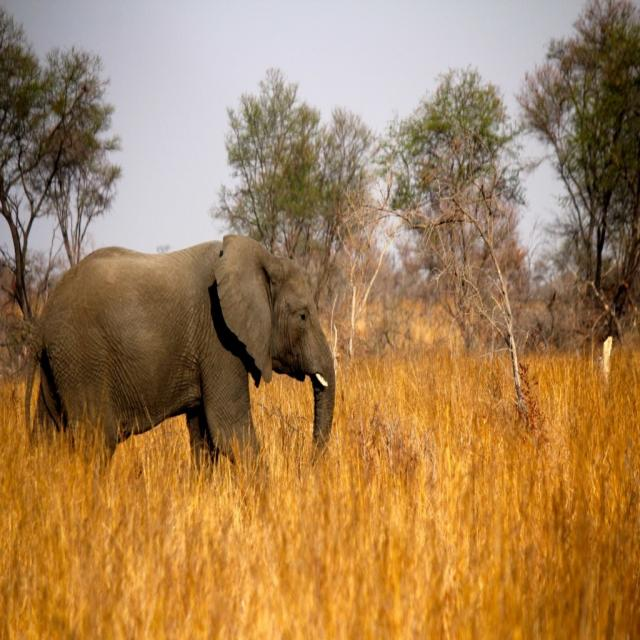elephant: (15, 230, 341, 496)
